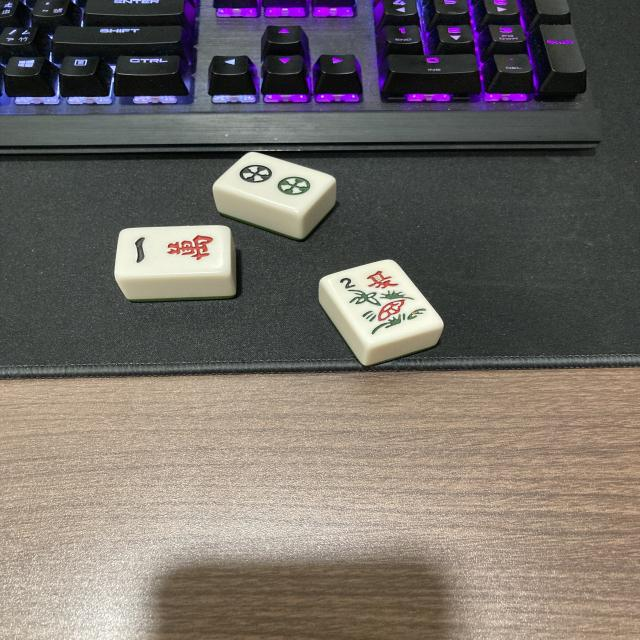1C: (116, 227, 228, 276)
2D: (219, 150, 332, 215)
2S: (324, 256, 438, 344)
